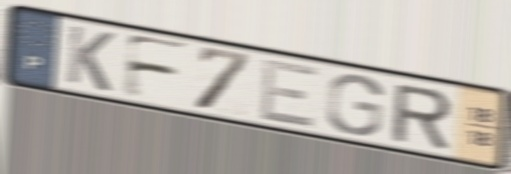7: (196, 44, 253, 113)
E: (256, 56, 321, 131)
F: (119, 31, 193, 101)
G: (323, 73, 386, 137)
K: (63, 22, 117, 95)
R: (388, 81, 455, 151)
